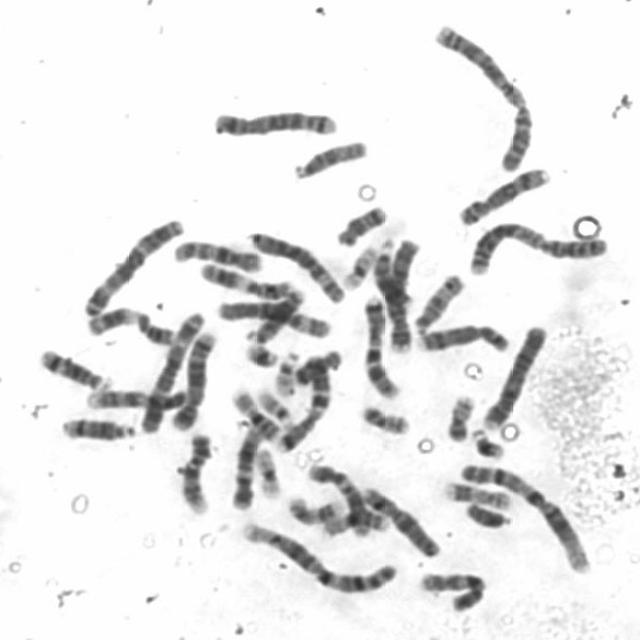A1: (454, 456, 593, 575), (238, 518, 402, 596)
A2: (428, 19, 536, 174), (462, 216, 612, 277)
A3: (79, 210, 187, 318), (136, 306, 208, 436)
B4: (479, 321, 549, 432), (382, 234, 423, 356)
B5: (165, 322, 220, 432), (208, 105, 340, 138)
C10: (168, 236, 262, 276), (415, 566, 489, 612)
C11: (195, 257, 298, 301), (81, 302, 178, 347)
C12: (303, 460, 372, 540), (225, 420, 264, 512)
C6: (245, 227, 346, 305), (212, 295, 336, 340)
C7: (268, 347, 337, 455), (357, 288, 402, 399)
C8: (454, 161, 554, 227), (414, 318, 513, 354)
C9: (174, 426, 213, 517), (82, 382, 193, 413)
D13: (243, 285, 308, 345), (368, 238, 413, 310)
D14: (33, 342, 113, 393), (56, 410, 139, 443)
D15: (288, 133, 371, 182), (409, 269, 466, 337)
E16: (227, 382, 281, 442), (318, 506, 390, 540)
E17: (436, 476, 514, 512), (282, 490, 342, 526)
E18: (330, 198, 390, 248), (289, 345, 346, 387)
F19: (338, 240, 380, 292), (250, 442, 284, 500)
F20: (441, 387, 479, 444), (354, 399, 410, 436)
G21: (468, 424, 509, 460), (239, 336, 281, 369)
G22: (250, 383, 296, 425), (270, 347, 301, 399)
X: (359, 480, 445, 560)
Y: (461, 498, 514, 530)
